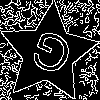G: (23, 28, 77, 86)
